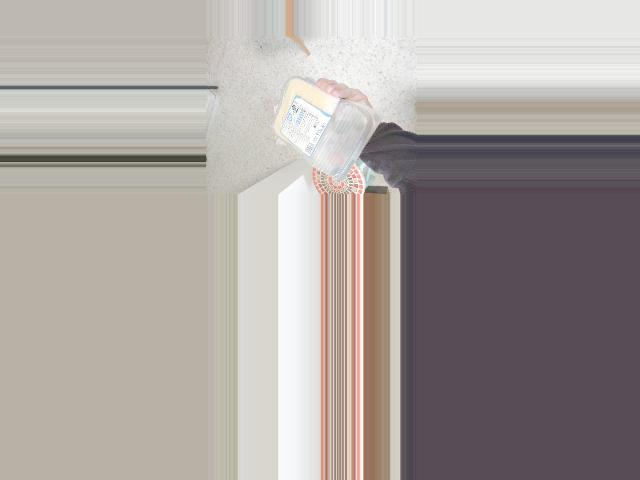cheese: (268, 90, 366, 177)
